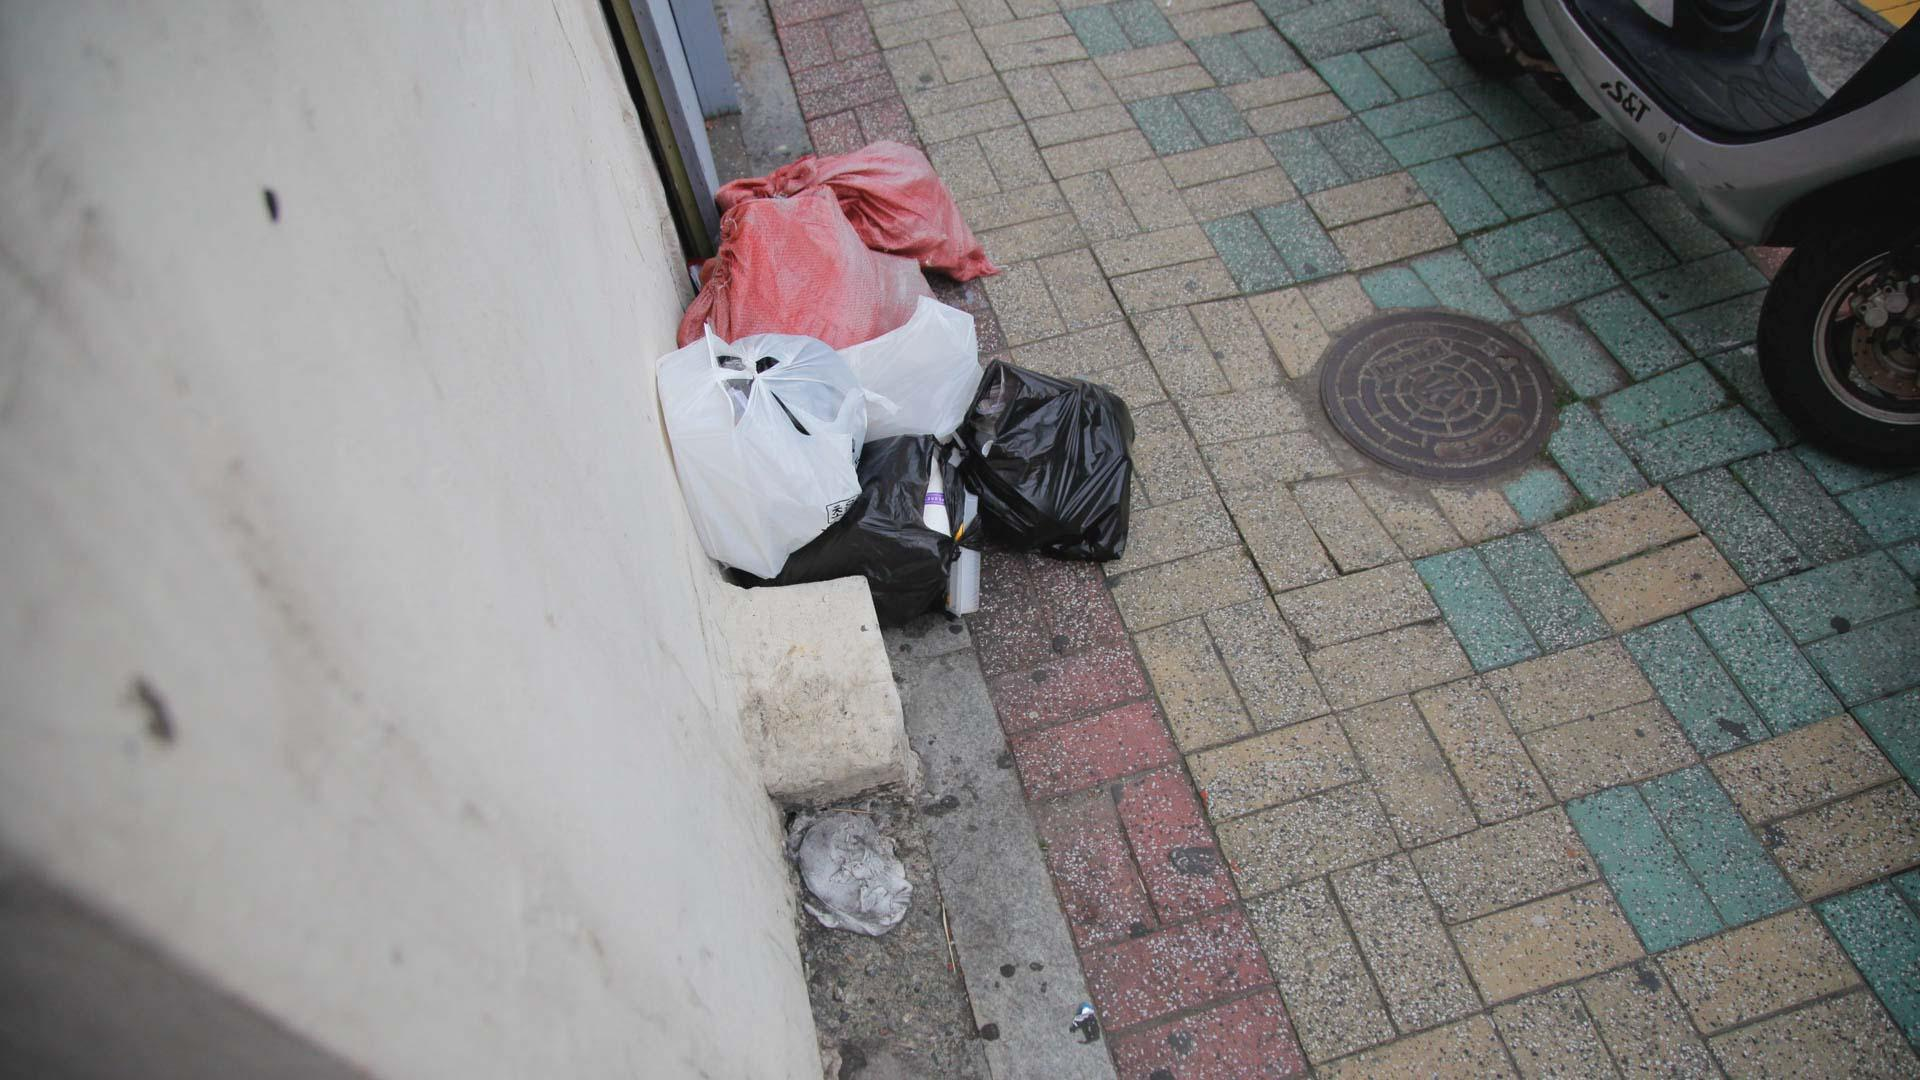black_bag: (942, 354, 1152, 567), (785, 436, 997, 632)
white_bag: (642, 320, 877, 579)
